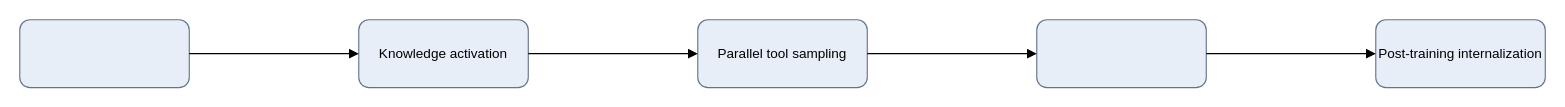
Some shapes in this 1565 by 107 pixel diagram are drawn without their labels. The centre of each missing label's shape, as x and y in pixels:
Experience acquisition: pixel 104 53
Tool execution: pixel 1121 53
